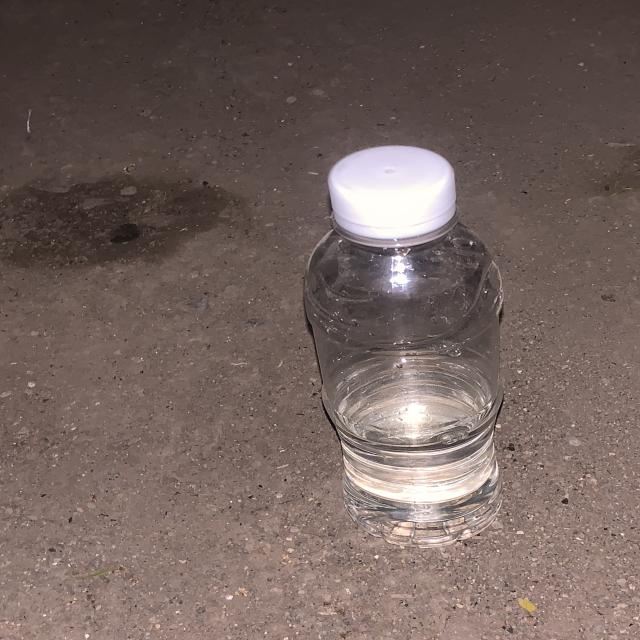Bottle: (304, 146, 503, 548)
